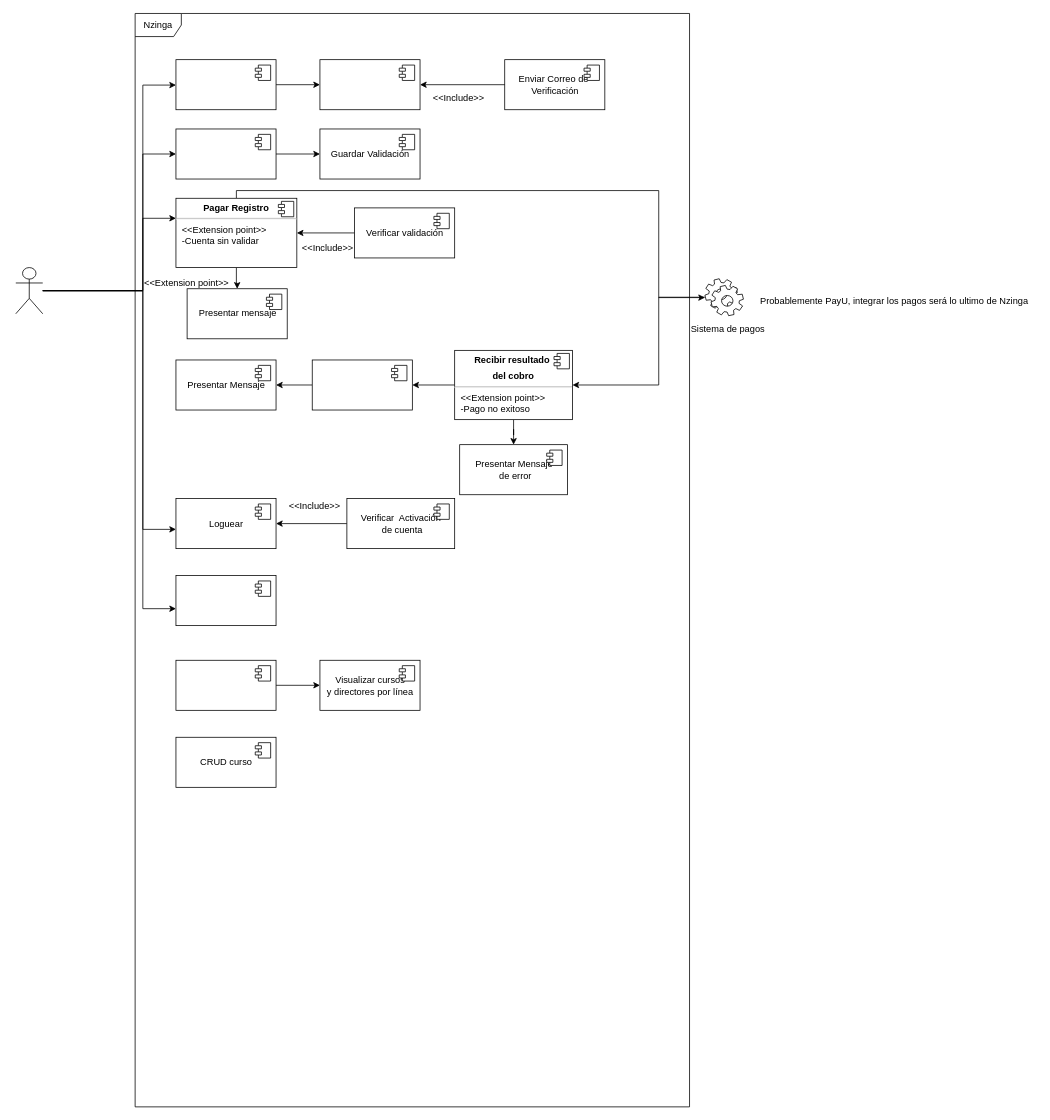
This 1050x1120 diagram has some shape labels left out. The shapes that lost their labels are listed below. From the top down, each one's centre as x and y in pixels, then its label:
pixel 225 84: Registrar Cuenta
pixel 369 84: Guardar datos
pixel 225 153: Valdiar Cuenta
pixel 29 290: Entidad
pixel 361 384: Activar cuenta
pixel 225 600: CRUD linea
pixel 225 685: Seleccionar linea
